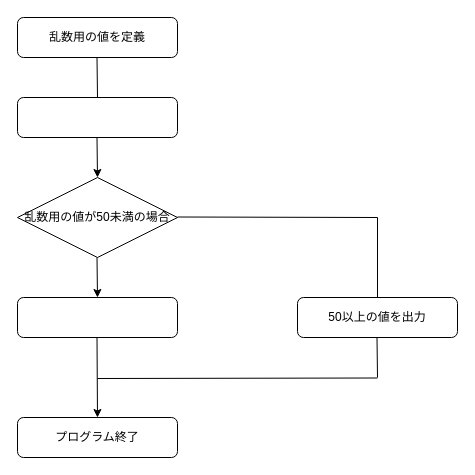
This 475x475 diagram has some shape labels left out. The shapes that lost their labels are listed below. From the top down, each one's centre as x and y in pixels, then its label:
the point at 97,117: 1~100までの乱数を発生させる
the point at 97,317: 50未満の値を出力
